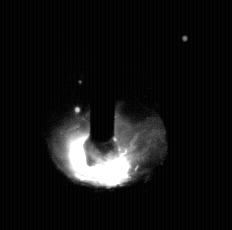arame: (85, 0, 116, 165)
poca: (46, 0, 168, 230)
